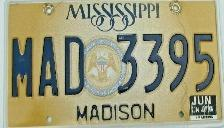3: (115, 32, 141, 95), (140, 33, 166, 94)
5: (191, 32, 217, 93)
9: (166, 32, 192, 93)
A: (36, 35, 62, 98)
D: (63, 34, 87, 97)
M: (8, 36, 36, 100)
